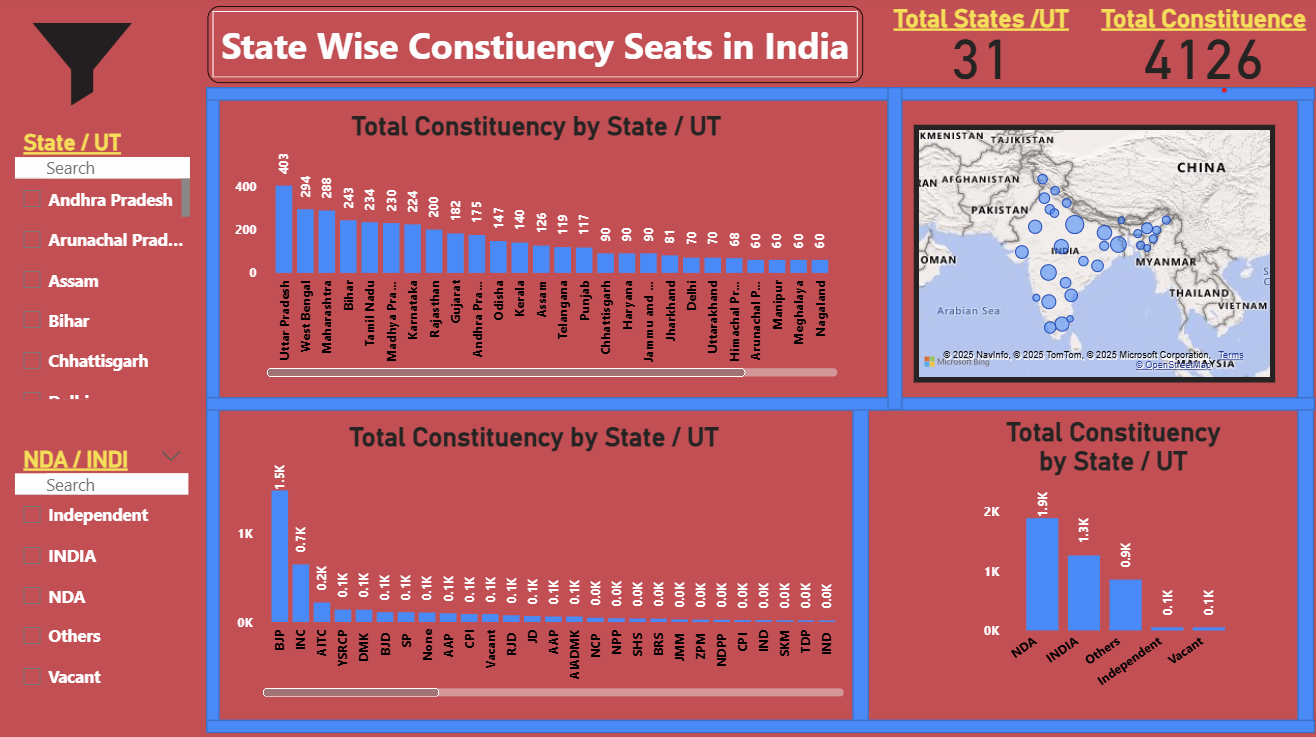

Layout of this report page (visuals, bound fields, positions):
{"tool":"powerbi","page":{"name":"state","canvas":[1280,720],"ordinal":0},"visuals":[{"type":"card","title":"Total States /UT","fields":{"Values":["Count(Data.State / UT)"]},"box":[838.6,7.1,195.7,92.9],"z":0},{"type":"card","title":"Total Constituence","fields":{"Values":["Sum(Data.Total Constituency)"]},"box":[1055.7,7.1,212.9,80],"z":1000},{"type":"clusteredColumnChart","title":"Total Constituency by State / UT","fields":{"Category":["Data.State / UT"],"Y":["Sum(Data.Total Constituency)"]},"box":[221.4,111.4,591.4,261.4],"z":2000},{"type":"map","fields":{"Category":["Data.State / UT"],"Size":["Sum(Data.Total Constituency)"]},"box":[881.4,124.3,348.6,248.6],"z":3000},{"type":"clusteredColumnChart","title":"Total Constituency by State / UT","fields":{"Category":["Data.Party"],"Y":["Sum(Data.Total Constituency)"]},"box":[211.4,411.4,608.6,270],"z":4000},{"type":"clusteredColumnChart","title":"Total Constituency by State / UT","fields":{"Y":["Sum(Data.Total Constituency)"],"Category":["Data.NDA / INDI"]},"box":[944.3,407.1,260,280],"z":5000},{"type":"slicer","fields":{"Values":["Data.NDA / INDI"]},"box":[10,430,177.1,268.6],"z":6000},{"type":"slicer","fields":{"Values":["Data.State / UT"]},"box":[10,124.3,178.6,270],"z":7000},{"type":"shape","box":[198.6,88.6,12.9,622.9],"z":8000},{"type":"shape","box":[822.9,387.1,15.7,324.3],"z":9000},{"type":"shape","box":[1252.9,88.6,15.7,622.9],"z":10000},{"type":"shape","box":[198.6,387.1,1070,12.9],"z":11000},{"type":"shape","box":[198.6,698.6,1070,12.9],"z":12000},{"type":"shape","box":[198.6,88.6,1070,12.9],"z":13000},{"type":"shape","box":[857.1,88.6,14.3,311.4],"z":14000},{"type":"shape","box":[200,10,632.9,74.3],"z":15000},{"type":"image","box":[27.1,10,105.7,111.4],"z":16000}]}

Visuals, with their boxes in screenshot pixels (x1, y1, x2, y2), scaled from the page's 1280x720 canvas onto the 1316x737 screenshot:
"Total States /UT" card: {"x1": 862, "y1": 7, "x2": 1063, "y2": 102}
"Total Constituence" card: {"x1": 1085, "y1": 7, "x2": 1304, "y2": 89}
"Total Constituency by State / UT" clusteredColumnChart: {"x1": 228, "y1": 114, "x2": 836, "y2": 382}
map - Data.State / UT x Sum(Data.Total Constituency): {"x1": 906, "y1": 127, "x2": 1265, "y2": 382}
"Total Constituency by State / UT" clusteredColumnChart: {"x1": 217, "y1": 421, "x2": 843, "y2": 697}
"Total Constituency by State / UT" clusteredColumnChart: {"x1": 971, "y1": 417, "x2": 1238, "y2": 703}
slicer - Data.NDA / INDI: {"x1": 10, "y1": 440, "x2": 192, "y2": 715}
slicer - Data.State / UT: {"x1": 10, "y1": 127, "x2": 194, "y2": 404}
shape: {"x1": 204, "y1": 91, "x2": 217, "y2": 728}
shape: {"x1": 846, "y1": 396, "x2": 862, "y2": 728}
shape: {"x1": 1288, "y1": 91, "x2": 1304, "y2": 728}
shape: {"x1": 204, "y1": 396, "x2": 1304, "y2": 409}
shape: {"x1": 204, "y1": 715, "x2": 1304, "y2": 728}
shape: {"x1": 204, "y1": 91, "x2": 1304, "y2": 104}
shape: {"x1": 881, "y1": 91, "x2": 896, "y2": 409}
shape: {"x1": 206, "y1": 10, "x2": 856, "y2": 86}
image: {"x1": 28, "y1": 10, "x2": 137, "y2": 124}
